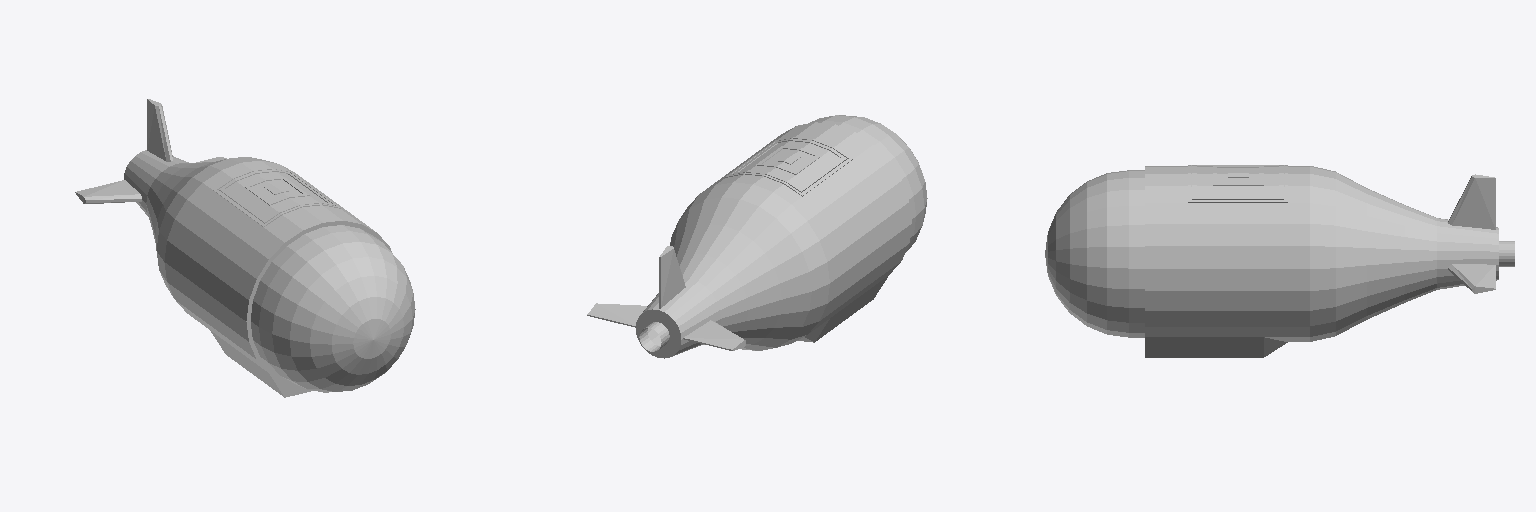
Rendered from submarine1.obj.
3 views of the same model, side by side, from view 1: azimuth 30°, elevation 25°; view 2: azimuth 150°, elevation 25°; view 3: azimuth 270°, elevation 25° (orthographic).
Size of the model in its own units: 2.11 by 2.19 by 5.59.